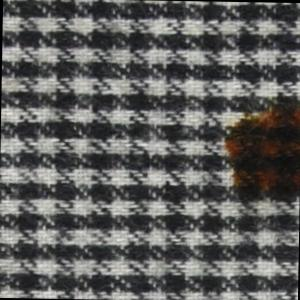Oil Stain: (219, 91, 300, 209)
